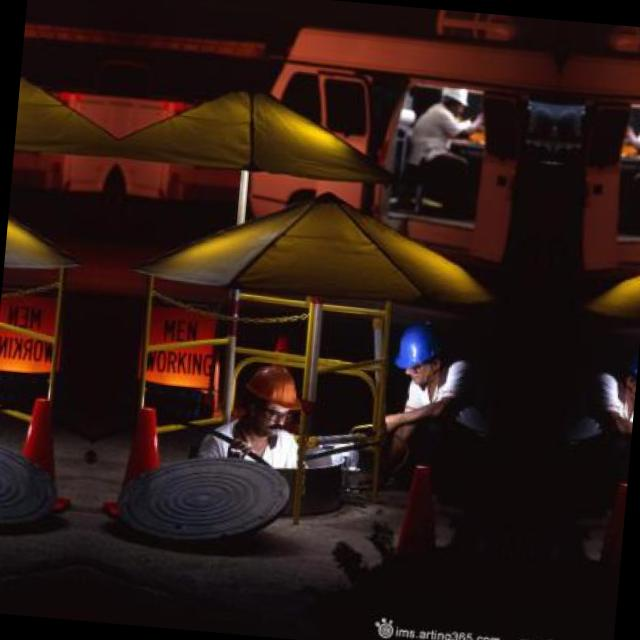helmet: (228, 358, 304, 440), (389, 322, 455, 392), (610, 340, 636, 409), (438, 77, 477, 121), (634, 93, 640, 138)
